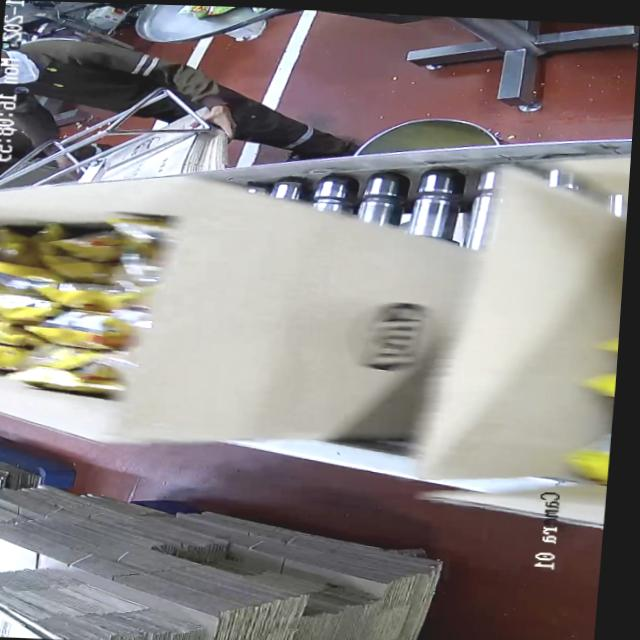SALTED: (0, 226, 157, 396)
